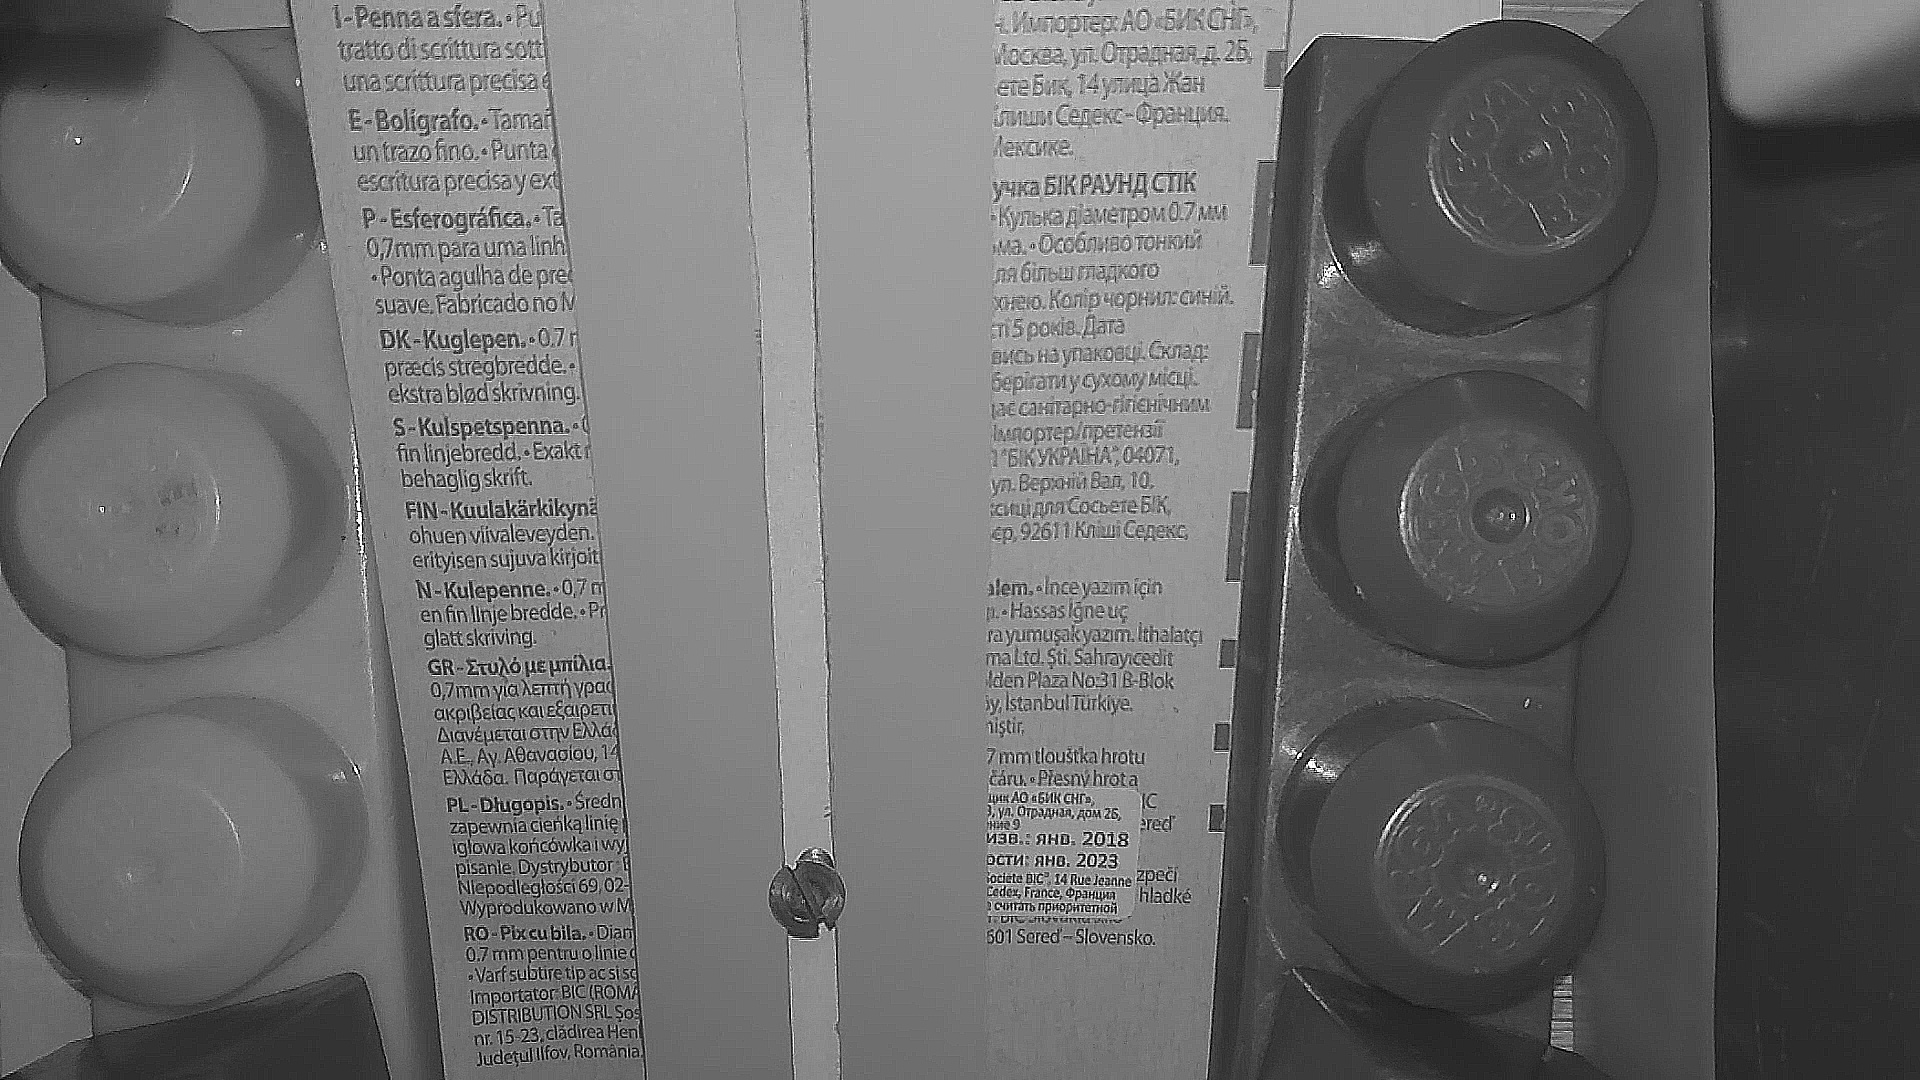i: (770, 858, 845, 938)
